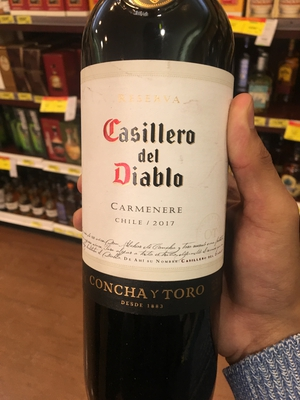casillero del diablo carmenere: (70, 9, 243, 400)
